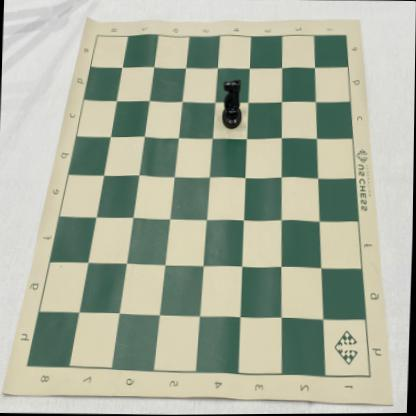black-knight: (220, 78, 244, 131)
